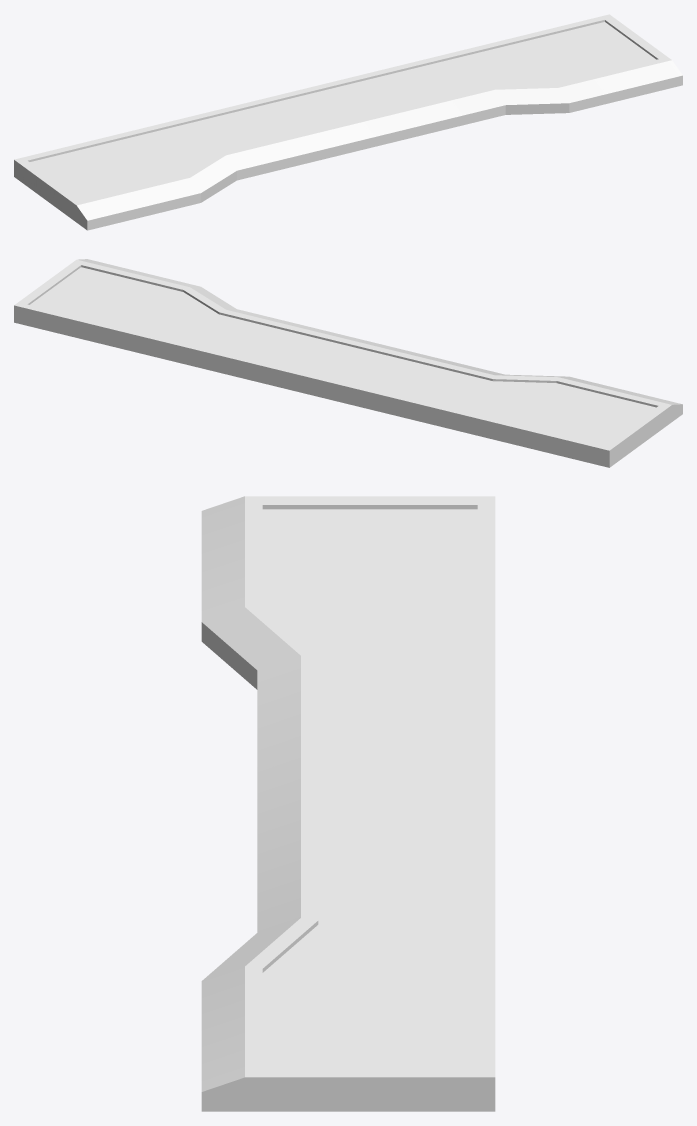
Rendered from KB3D_FTW_PropStep_C_grp.glb.
The picture shows the model from 3 angles, top to bottom: view 1: azimuth 30°, elevation 25°; view 2: azimuth 150°, elevation 25°; view 3: azimuth 270°, elevation 25°; orthographic projection. The views are drawn at different scales.
Visible parts, largest first — view 1: KB3D_FTW_PropStep_C_Main; view 2: KB3D_FTW_PropStep_C_Main; view 3: KB3D_FTW_PropStep_C_Main.
Boxes of the visible parts, x1,y1,x2,y2 form: KB3D_FTW_PropStep_C_Main: (14, 14, 682, 230); KB3D_FTW_PropStep_C_Main: (14, 259, 682, 467); KB3D_FTW_PropStep_C_Main: (201, 496, 495, 1111).
Bounding box in the file's own units: 1.41 × 0.0389 × 0.3009.
2 materials, 1 textured.
